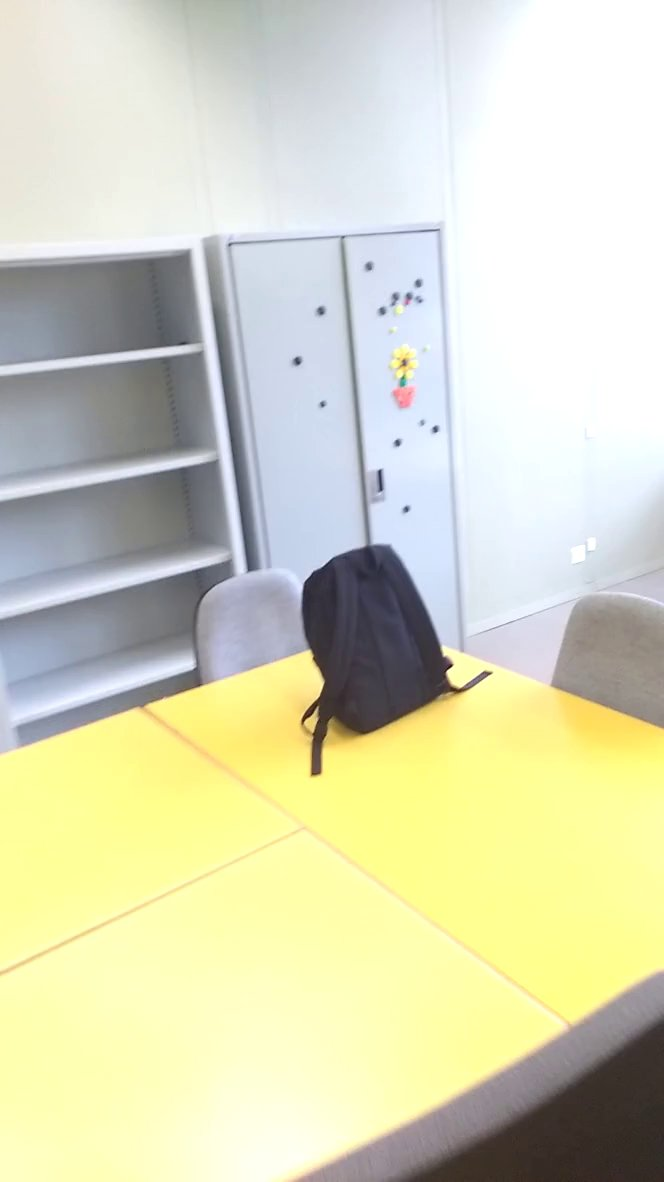bag: (296, 534, 502, 791)
chair: (182, 551, 342, 684), (546, 579, 664, 746)
